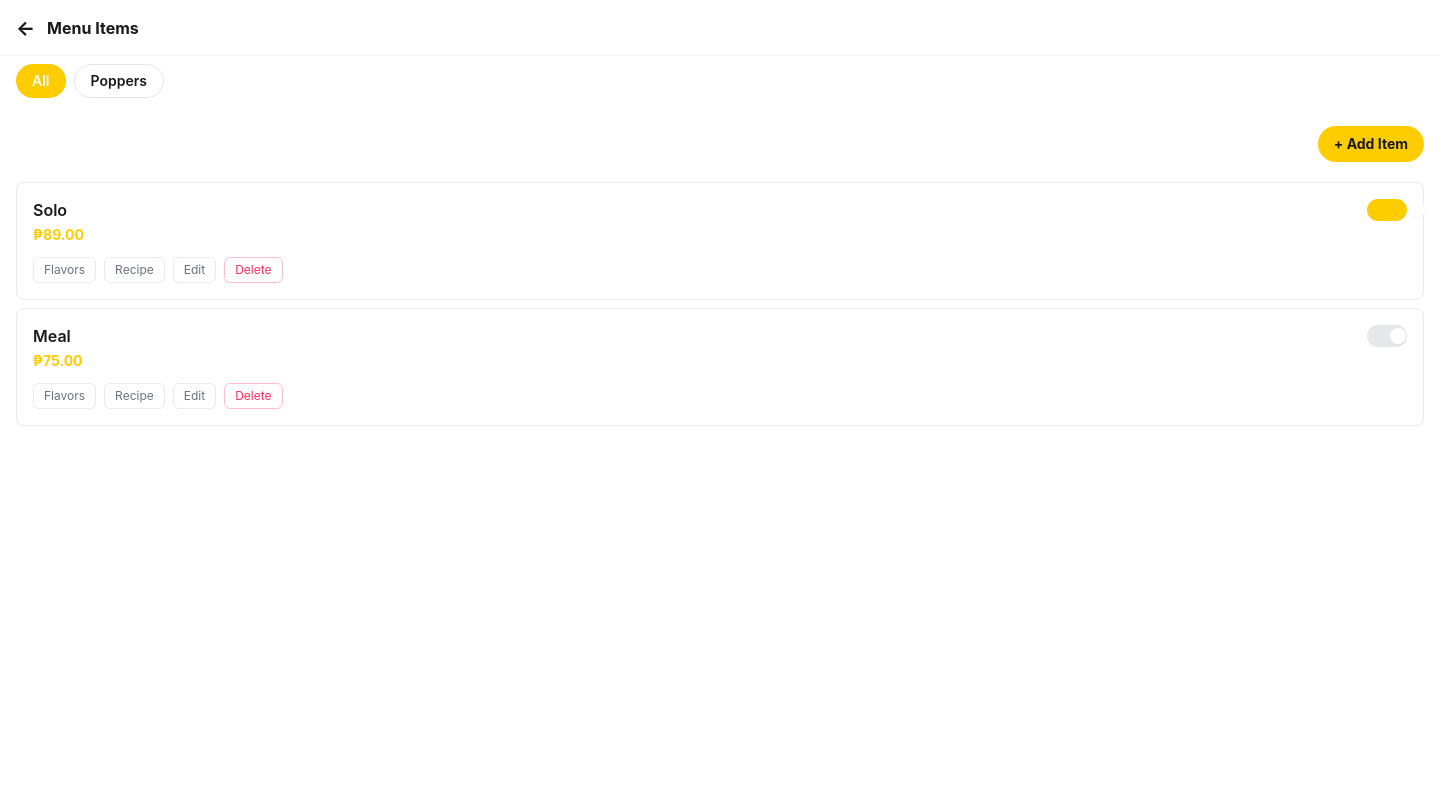
Test: MenuItems › opens add form when Add Item clicked
Check: the text "Solo" is shown, box [33,200,67,220]
Click the button "+ Add Item" at (1371,144), box [1318,126,1424,162]
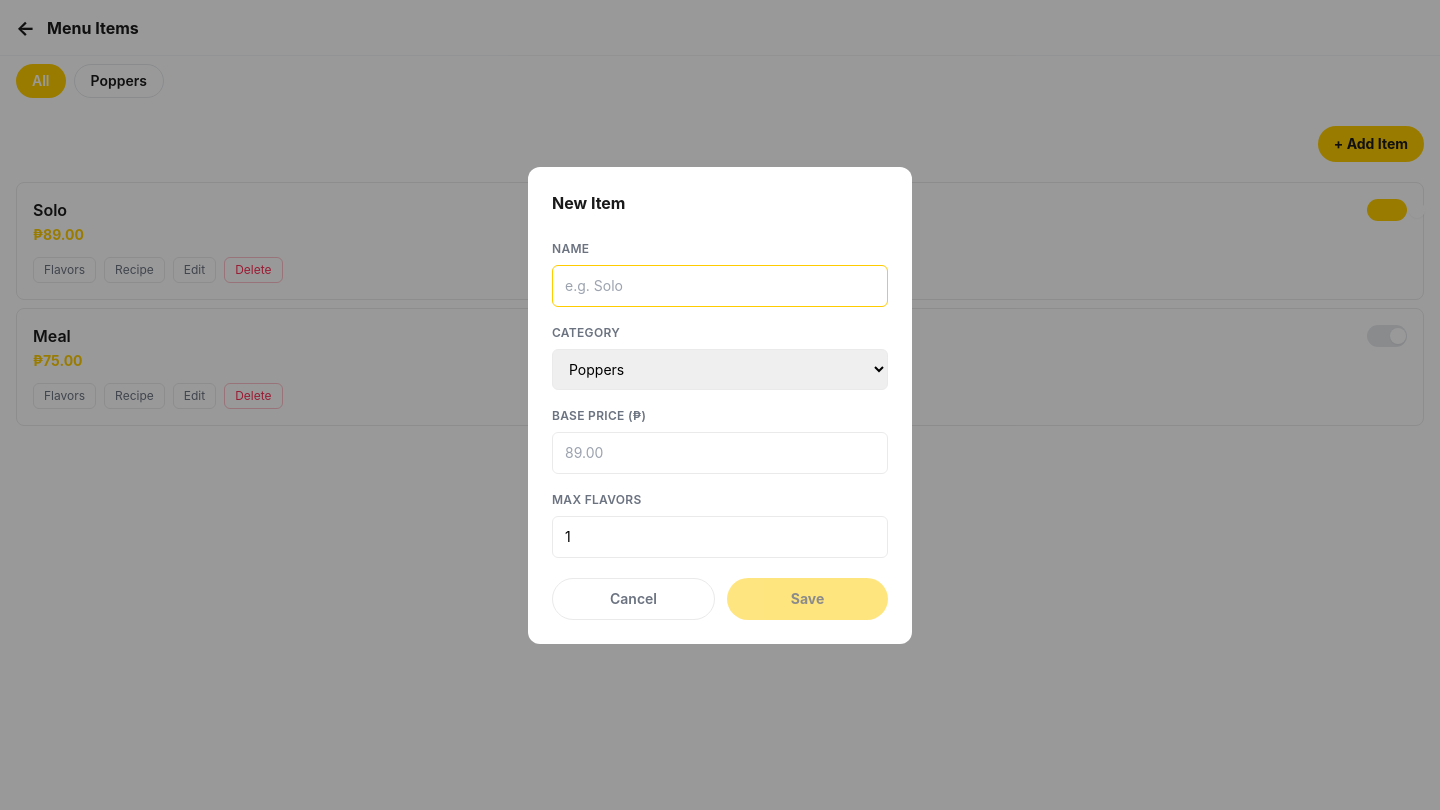
Check: the heading "New Item" is shown, box [552,192,626,212]
